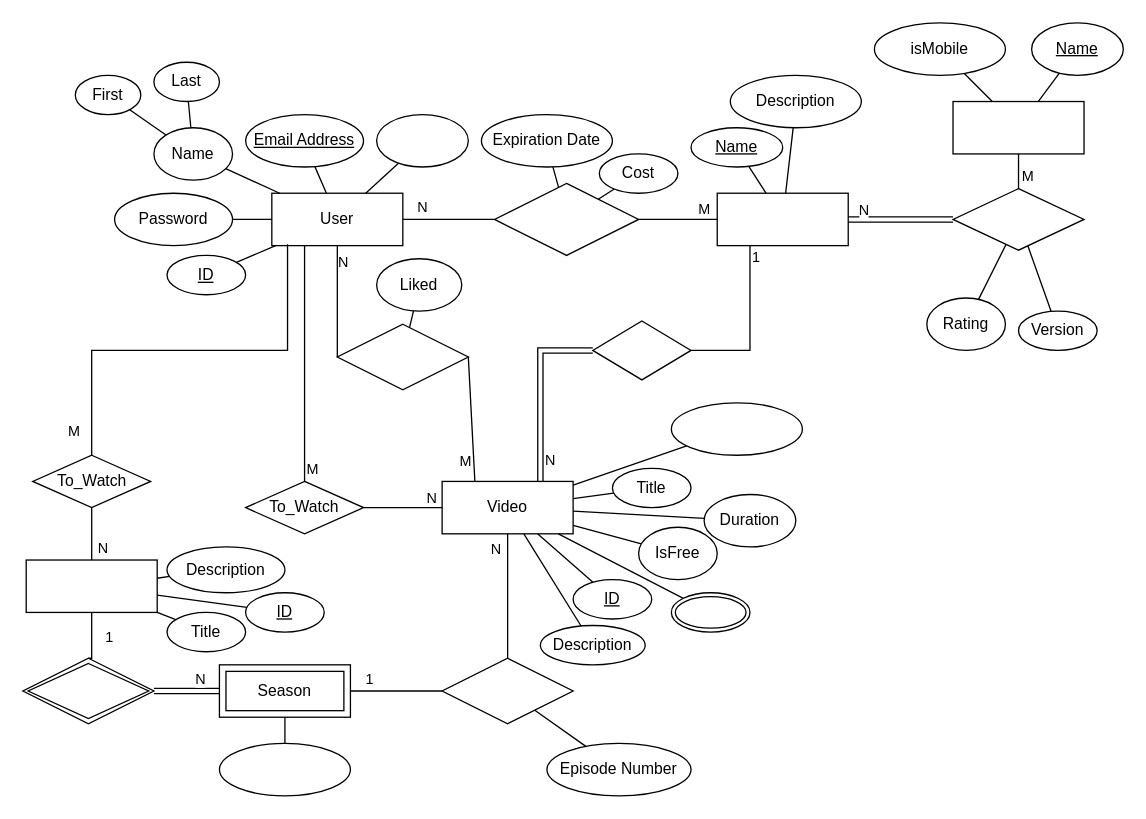
This 1146x819 diagram has some shape labels left out. Each missing label, with the centre of its shape:
App: the point at 782,219
App_Platform: the point at 1018,218
Appears_On: the point at 507,690
Country: the point at 421,140
Hosts: the point at 641,350
Number: the point at 284,769
Platform: the point at 1018,127
Release Date: the point at 736,428
Season_of: the point at 88,690
Show: the point at 91,585
Subscribes To: the point at 566,218
Tags: the point at 710,611
Watched: the point at 402,356
